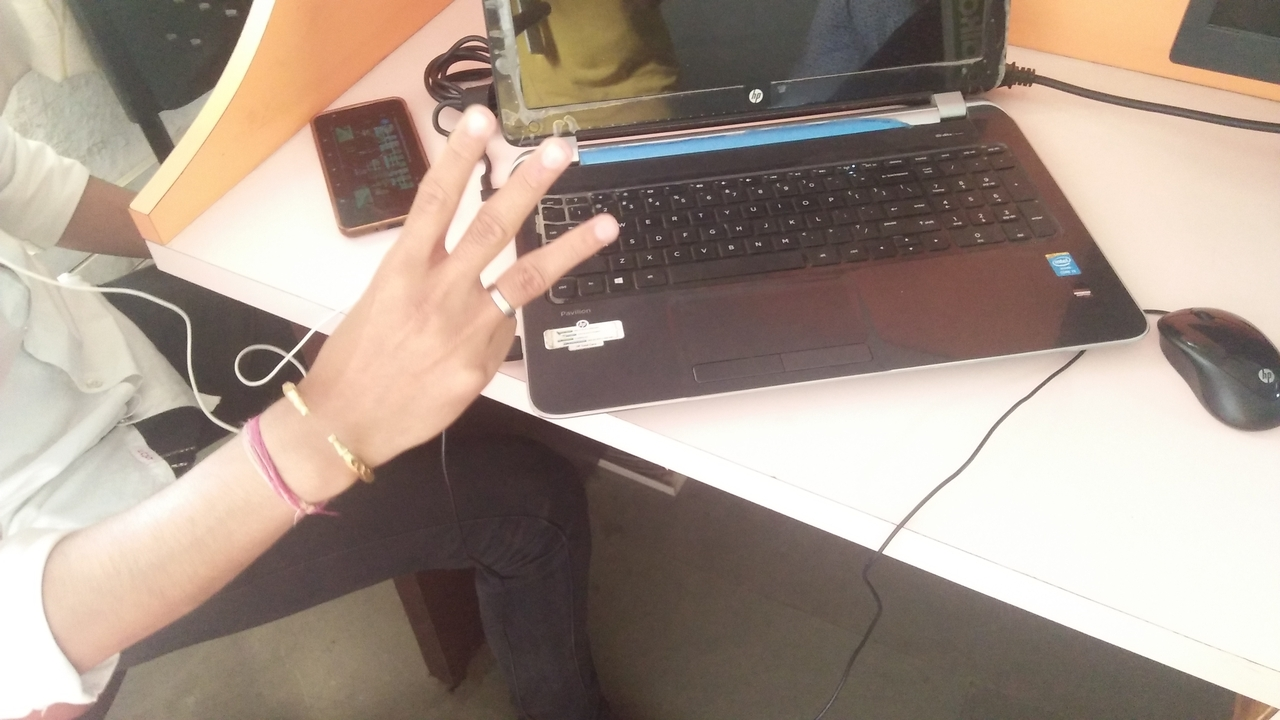fingertip: (436, 96, 508, 156), (522, 124, 578, 182), (570, 204, 624, 254)
